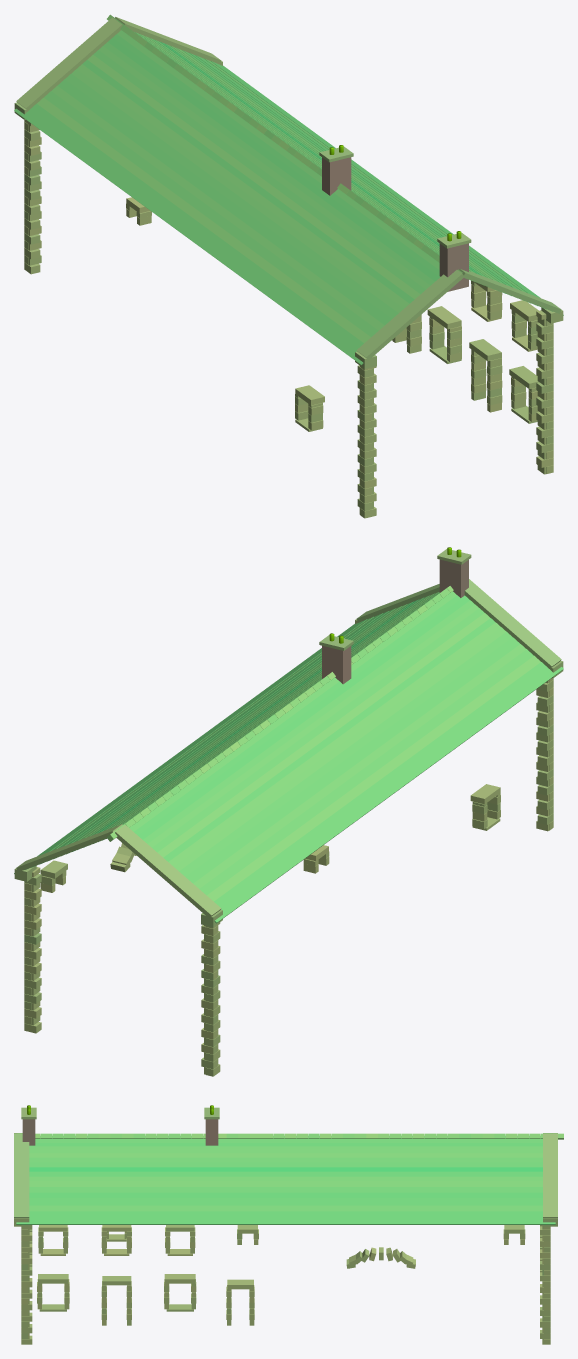
File: SM_Bld_015_Stone.glb
The picture shows the model from 3 angles, top to bottom: view 1: azimuth 30°, elevation 25°; view 2: azimuth 150°, elevation 25°; view 3: azimuth 270°, elevation 25°; orthographic projection. The views are drawn at different scales.
Parts seen in each view (by area): view 1: SM_Bld_015_Stone; view 2: SM_Bld_015_Stone; view 3: SM_Bld_015_Stone.
Part boxes in pixels (box(x1,y1,x2,y2)): SM_Bld_015_Stone: box(14, 14, 563, 518); SM_Bld_015_Stone: box(14, 547, 563, 1076); SM_Bld_015_Stone: box(14, 1105, 563, 1344).
Size of the model in its own units: 8.61 by 10.49 by 26.
